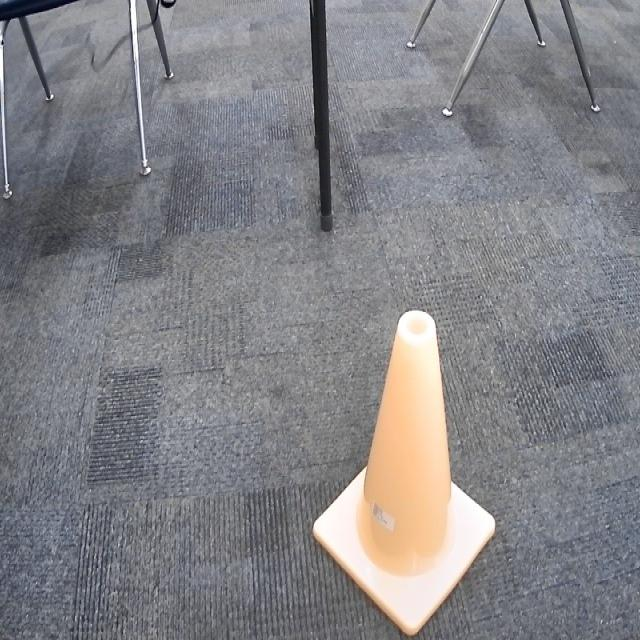cone: (312, 305, 498, 640)
